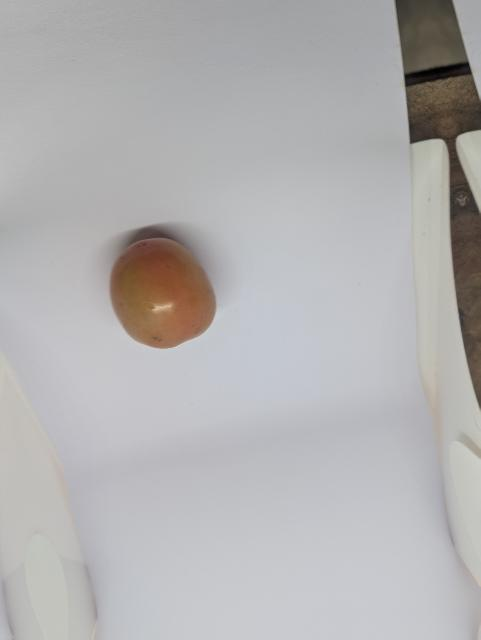turning: (105, 231, 220, 351)
